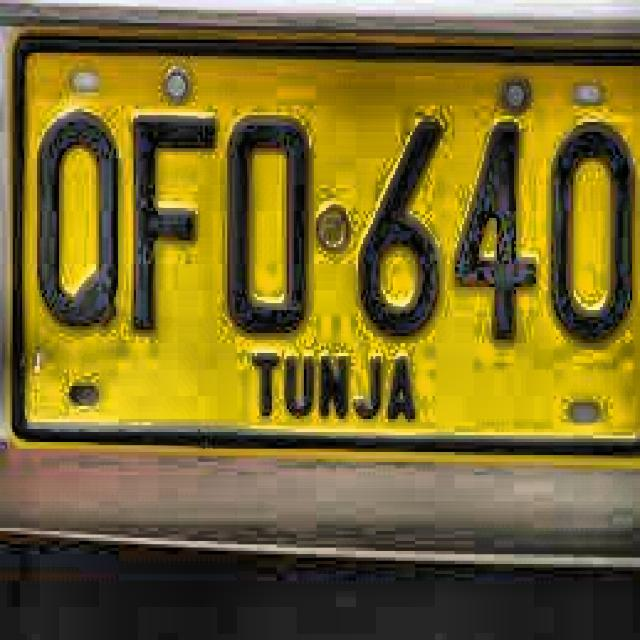plate: (12, 28, 638, 448)
